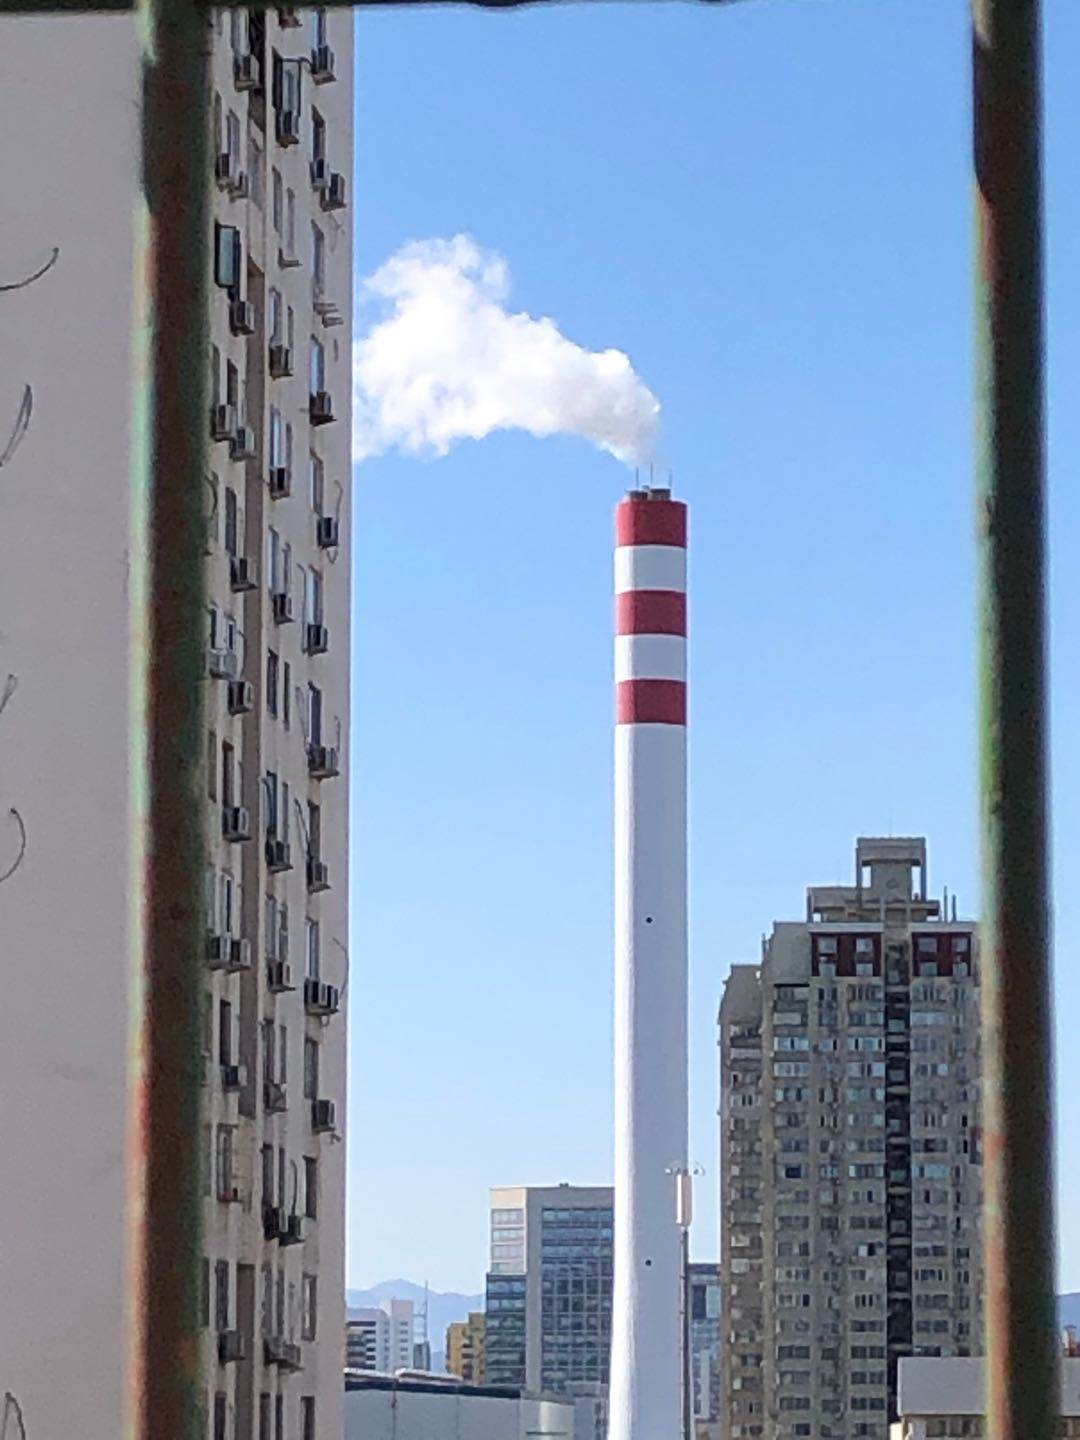yanwu: (361, 232, 681, 484)
